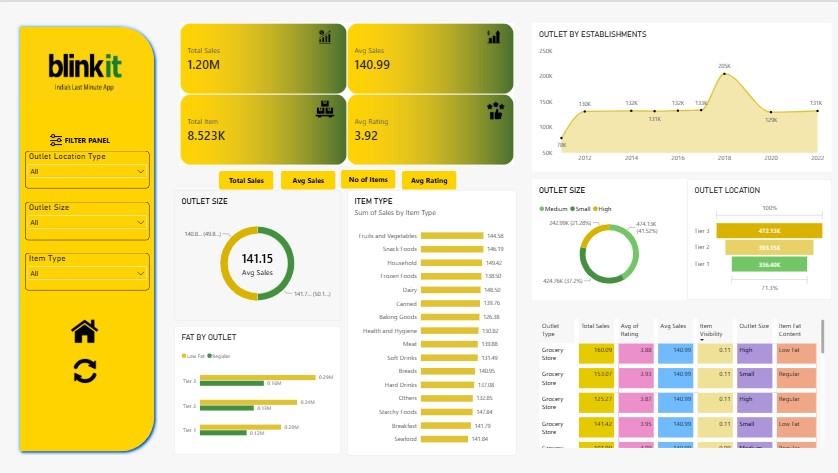

The dashboard page shown, as its layout file describes it:
{"tool":"powerbi","page":{"name":"Page 1","canvas":[1920,1080],"ordinal":0},"visuals":[{"type":"cardVisual","title":"ff","fields":{"Data":["Sum(BlinkIT Grocery Data.Sales)"]},"box":[413.3,48.3,380,162],"z":0},{"type":"cardVisual","title":"ff","fields":{"Data":["Avg(BlinkIT Grocery Data.Sales)"]},"box":[793.3,46.7,380,162],"z":1000},{"type":"cardVisual","title":"ff","fields":{"Data":["CountNonNull(BlinkIT Grocery Data.Item Identifier)"]},"box":[413.3,208.3,380,162],"z":2000},{"type":"cardVisual","title":"ff","fields":{"Data":["Avg(BlinkIT Grocery Data.Rating)"]},"box":[793.3,208.3,380,162],"z":3000},{"type":"barChart","title":"ITEM TYPE","fields":{"Category":["BlinkIT Grocery Data.Item Type"],"Y":["Sum(BlinkIT Grocery Data.Sales)"]},"box":[794,428,386,604],"z":4000},{"type":"donutChart","title":"OUTLET SIZE","fields":{"Category":["BlinkIT Grocery Data.Item Fat Content"],"Y":["Avg(BlinkIT Grocery Data.Sales)"]},"box":[400,428,380,298],"z":5000},{"type":"clusteredBarChart","title":"FAT BY OUTLET","fields":{"Category":["BlinkIT Grocery Data.Outlet Location Type"],"Series":["BlinkIT Grocery Data.Item Fat Content"],"Y":["Sum(BlinkIT Grocery Data.Sales)"]},"box":[400,738,380,292],"z":6000},{"type":"areaChart","title":"OUTLET BY ESTABLISHMENTS ","fields":{"Category":["BlinkIT Grocery Data.Outlet Establishment Year"],"Y":["Sum(BlinkIT Grocery Data.Sales)"]},"box":[1215,46.7,681.7,338.3],"z":7000},{"type":"donutChart","title":"OUTLET SIZE","fields":{"Category":["BlinkIT Grocery Data.Outlet Size"],"Y":["Sum(BlinkIT Grocery Data.Sales)"]},"box":[1215,403.3,351.7,275],"z":8000},{"type":"funnel","title":"OUTLET LOCATION ","fields":{"Category":["BlinkIT Grocery Data.Outlet Location Type"],"Y":["Sum(BlinkIT Grocery Data.Sales)"]},"box":[1566.7,403.3,330,275],"z":9000},{"type":"tableEx","title":"OUTLET TYPE","fields":{"Values":["BlinkIT Grocery Data.Outlet Type","Median(BlinkIT Grocery Data.Sales)","Avg(BlinkIT Grocery Data.Rating)","Avg(Table1.Sales)","Avg(BlinkIT Grocery Data.Item Visibility)","BlinkIT Grocery Data.Outlet Size","BlinkIT Grocery Data.Item Fat Content"]},"box":[1215,706.7,681.7,323.3],"z":10000},{"type":"actionButton","box":[501.7,383.3,124.3,42.9],"z":11000},{"type":"actionButton","box":[643.3,385,124.3,42.9],"z":12000},{"type":"actionButton","box":[780,381.7,124.3,42.9],"z":13000},{"type":"actionButton","box":[920,383.3,124.3,42.9],"z":14000},{"type":"shape","box":[41.7,48.3,323.3,983.3],"z":15000},{"type":"slicer","fields":{"Values":["BlinkIT Grocery Data.Outlet Location Type"]},"box":[62,340,283.3,85],"z":16000},{"type":"slicer","fields":{"Values":["BlinkIT Grocery Data.Outlet Size"]},"box":[62,454,283.3,86.7],"z":17000},{"type":"slicer","fields":{"Values":["BlinkIT Grocery Data.Item Type"]},"box":[62,572,283.3,85],"z":18000},{"type":"image","box":[110,296,45.8,36.7],"z":19000},{"type":"image","box":[62,80,270,144],"z":20000},{"type":"image","box":[1103.3,63.3,48.8,31.2],"z":21000},{"type":"image","box":[150,707.5,93.8,82.5],"z":22000},{"type":"image","box":[718.3,223.3,50,41.2],"z":23000},{"type":"image","box":[1111.7,223.3,40,47.5],"z":24000},{"type":"image","box":[718.3,63.3,48.8,31.2],"z":25000},{"type":"image","box":[170,810,55,58.8],"z":26000},{"type":"textbox","box":[138.8,305,128.8,35],"z":27000}]}

Visuals, with their boxes in screenshot pixels (x1, y1, x2, y2), scaled from the page's 1920x1080 canvas onto the 838x473 screenshot:
"ff" cardVisual: 180,21,346,92
"ff" cardVisual: 346,20,512,91
"ff" cardVisual: 180,91,346,162
"ff" cardVisual: 346,91,512,162
"ITEM TYPE" barChart: 347,187,515,452
"OUTLET SIZE" donutChart: 175,187,340,318
"FAT BY OUTLET" clusteredBarChart: 175,323,340,451
"OUTLET BY ESTABLISHMENTS " areaChart: 530,20,828,169
"OUTLET SIZE" donutChart: 530,177,684,297
"OUTLET LOCATION " funnel: 684,177,828,297
"OUTLET TYPE" tableEx: 530,310,828,451
actionButton: 219,168,273,187
actionButton: 281,169,335,187
actionButton: 340,167,395,186
actionButton: 402,168,456,187
shape: 18,21,159,452
slicer - BlinkIT Grocery Data.Outlet Location Type: 27,149,151,186
slicer - BlinkIT Grocery Data.Outlet Size: 27,199,151,237
slicer - BlinkIT Grocery Data.Item Type: 27,251,151,288
image: 48,130,68,146
image: 27,35,145,98
image: 482,28,503,41
image: 65,310,106,346
image: 314,98,335,116
image: 485,98,503,119
image: 314,28,335,41
image: 74,355,98,381
textbox: 61,134,117,149
